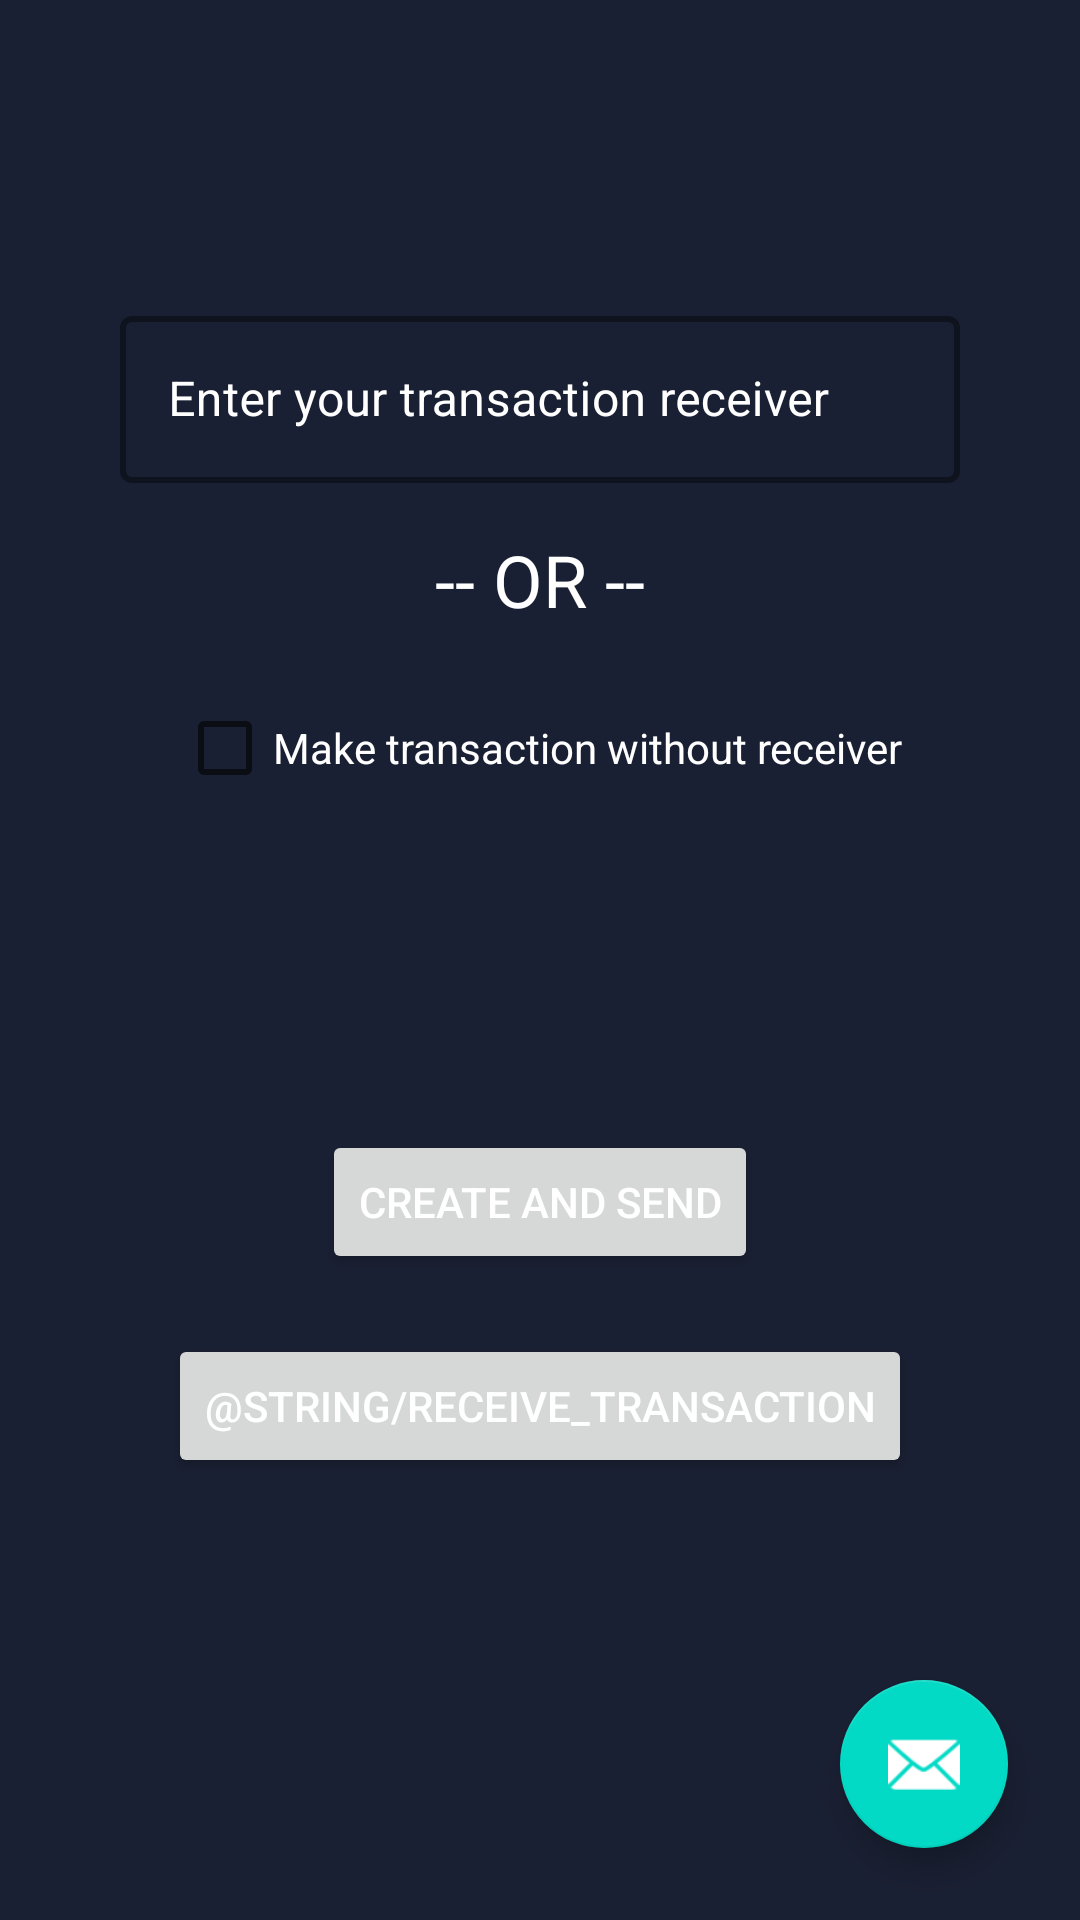

Locate icon controls on the screen. Image size 1080 x 1920, boxes as (x1, y1, x2, y2).
email: (840, 1680, 1008, 1848)
